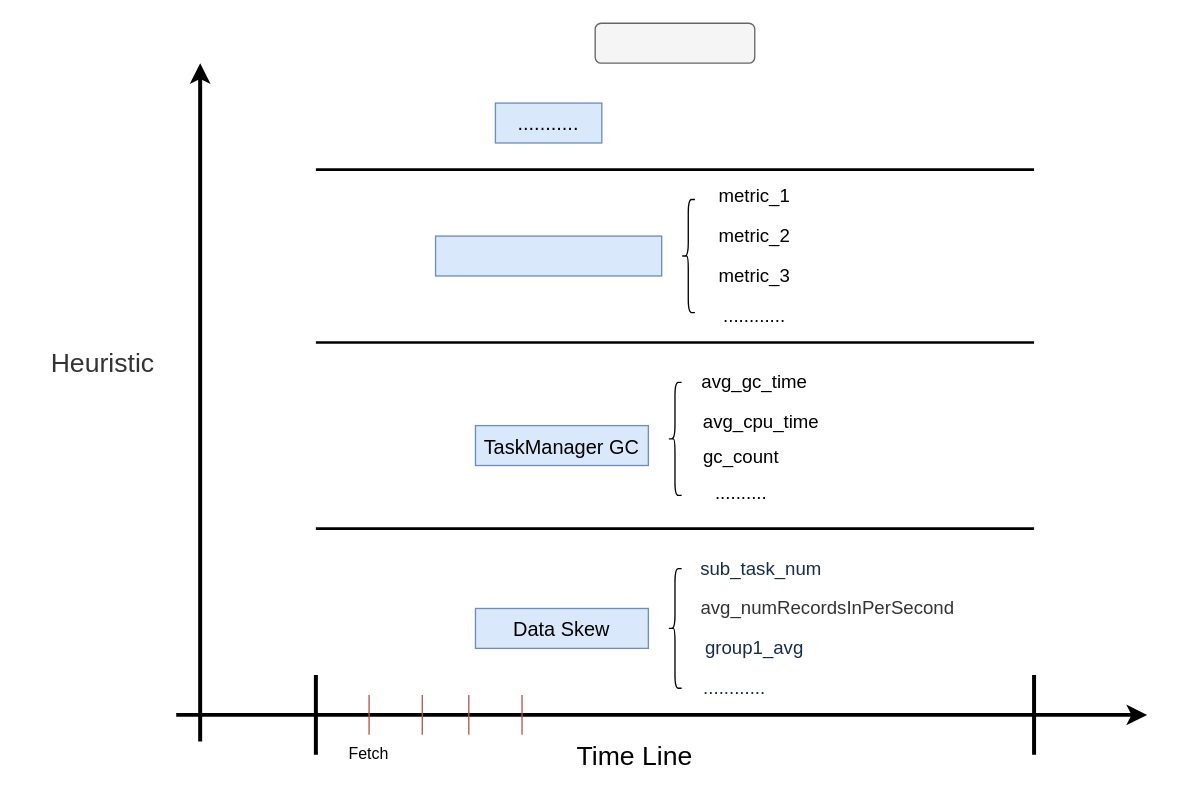
Some shapes in this 1182 by 794 pixel diagram are drawn without their labels. The shapes that lost their labels are listed below. From the top down, each one's centre as x and y in pixels, then its label:
At [674,42]: "Application Id".
At [548,255]: "TaskManager Memory".
